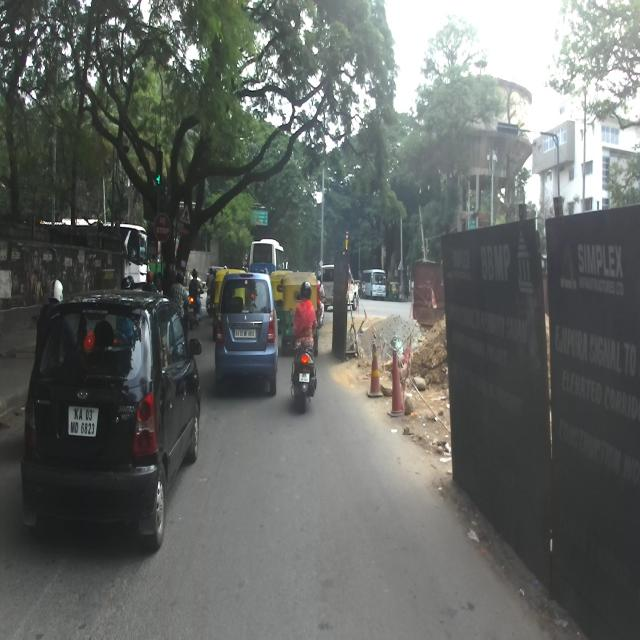autorickshaw: (280, 272, 318, 354), (212, 268, 248, 339), (269, 270, 294, 325), (388, 281, 399, 301)
bus: (40, 220, 148, 292), (249, 239, 288, 278), (362, 269, 386, 301)
car: (20, 291, 202, 550), (214, 274, 282, 397), (320, 264, 358, 312)
scooter: (290, 320, 320, 413)
